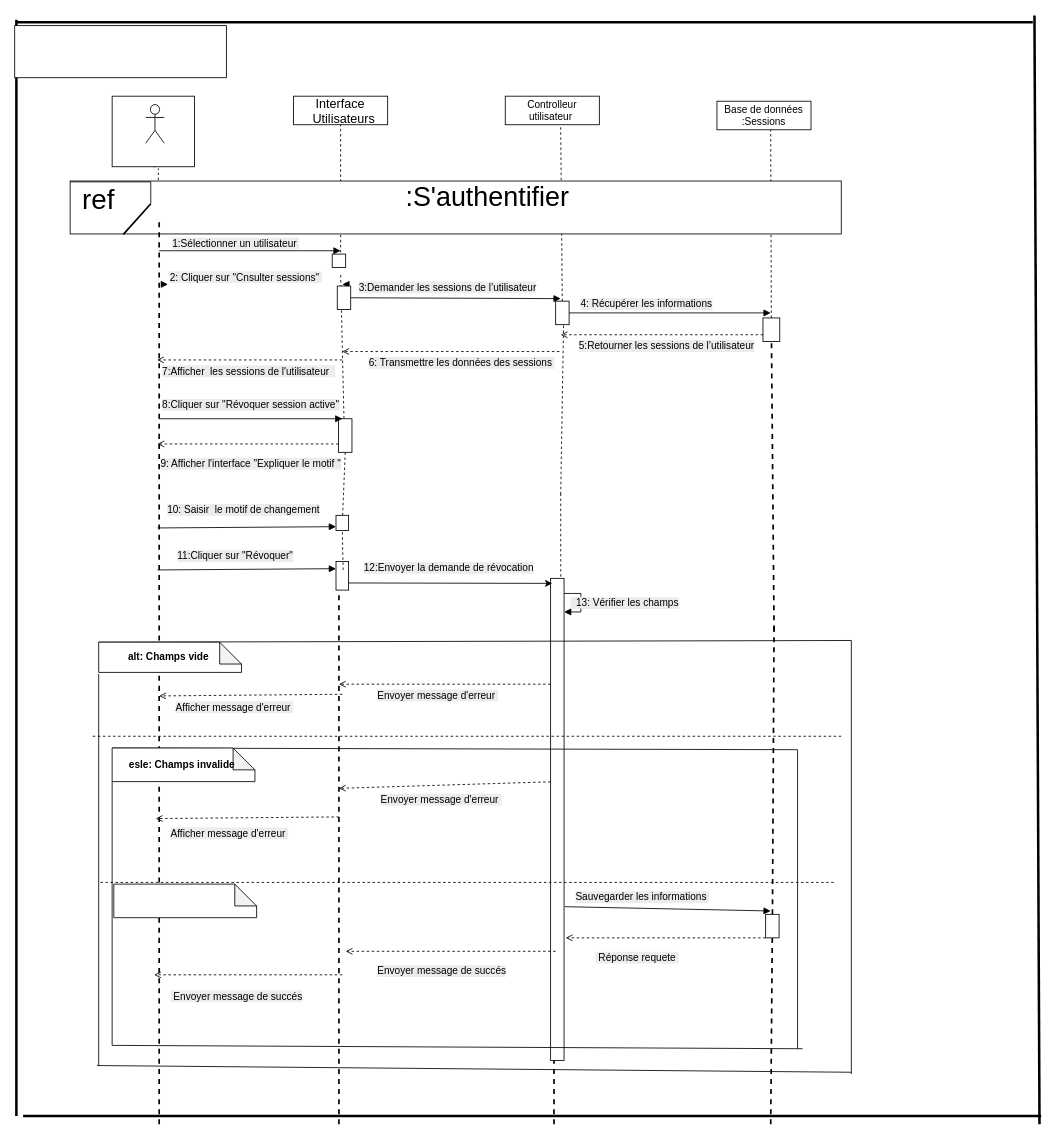
The diagram is 1058 pixels wide and 1141 high, and some of its shapes have lost their labels. The centre of each missing label's shape, as x and y in pixels:
"Administrateur" belongs at pixel 154 123.
"esle:Succés" belongs at pixel 185 900.
"sd :Révoquer session" belongs at pixel 120 51.
